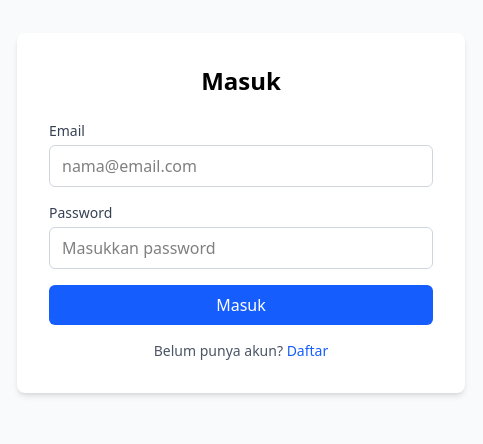
Test case: LoginForm › shows generic error message on login failure
The image size is (483, 444).
Type "test@test.com" into the field labelled "Email". click: (241, 166)
box: [49,145,433,187]
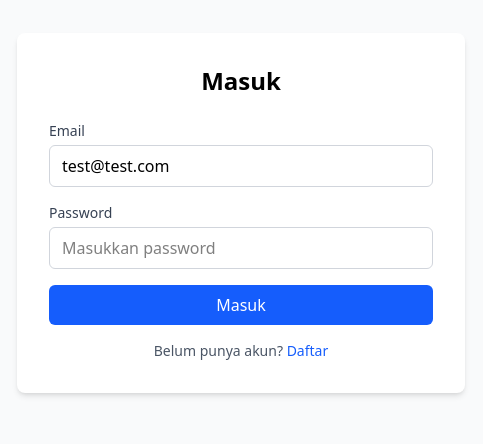
Type "wrongpass" into the password field labelled "Password". click: (241, 248)
box: [49,227,433,269]
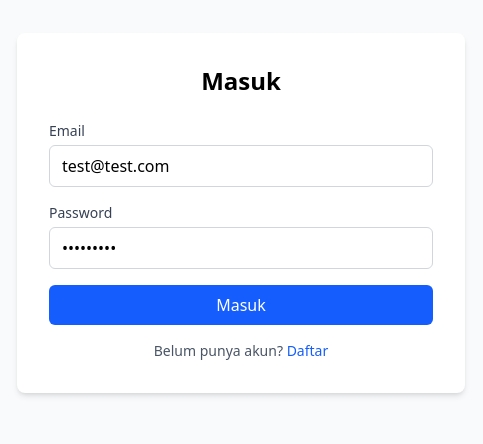
Click the button "Masuk". click: (241, 305)
box: [49,285,433,325]
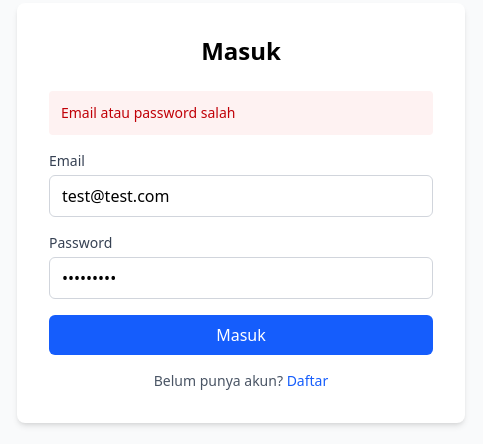
Expected: the message reads "Email atau password salah", [61,103,235,122]
